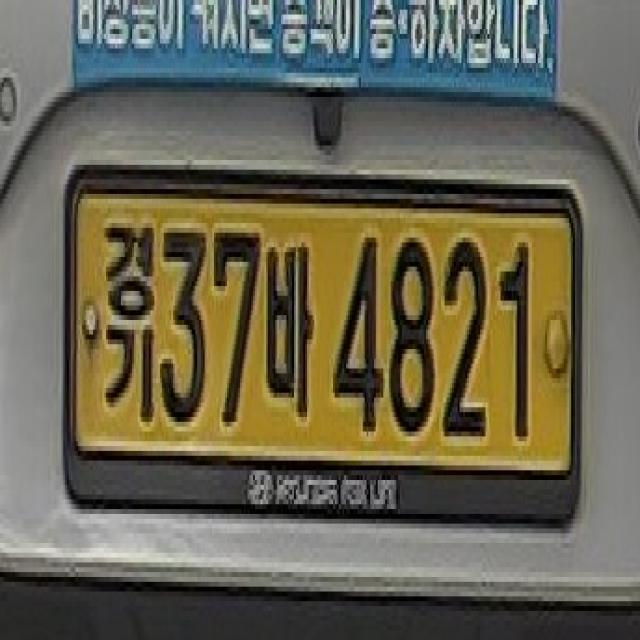plat: (63, 167, 583, 521)
